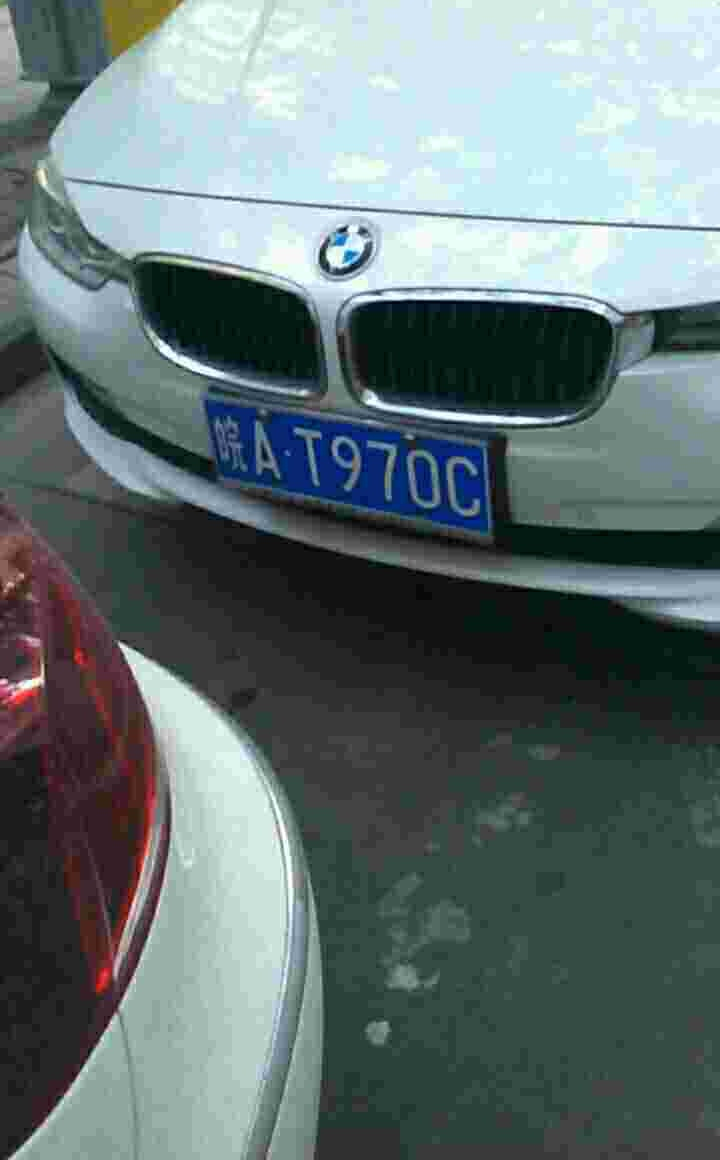license_plate: (207, 383, 502, 537)
